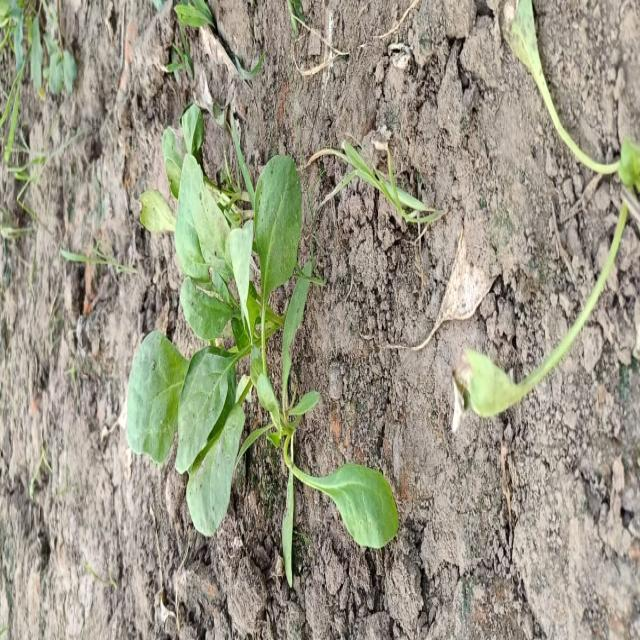plant: (126, 109, 399, 582)
